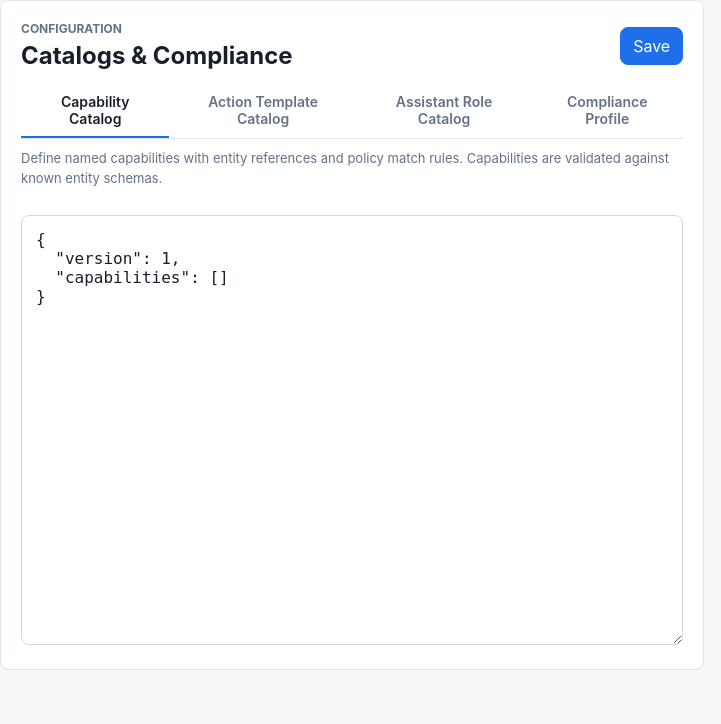
Test case: CatalogsWorkspace › submits valid capability catalog and shows saved
Expected: the text box named "Capability Catalog JSON" is shown, [21,215,683,645]
Click the button "Save".
click(652, 46)  # box [620,26,683,64]
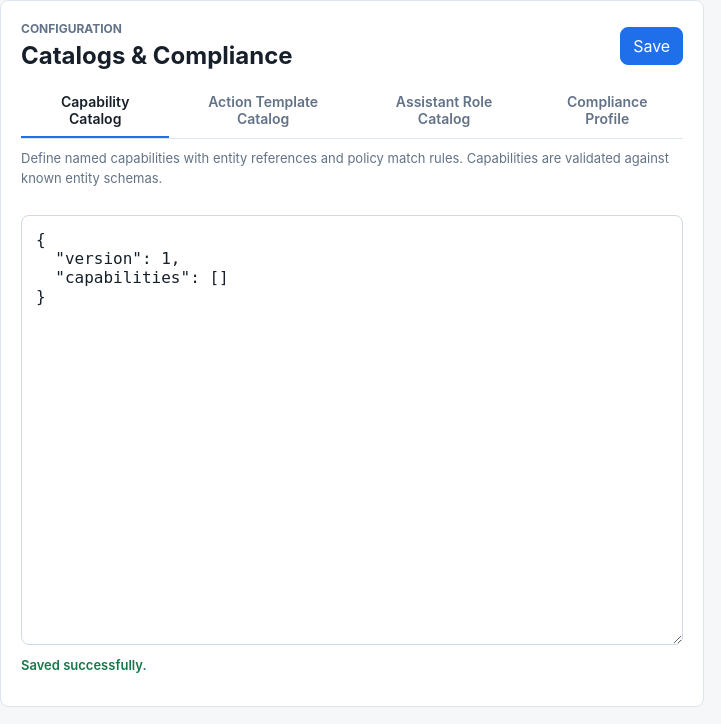
Expected: the text "Saved successfully." is shown, [21,657,147,673]
